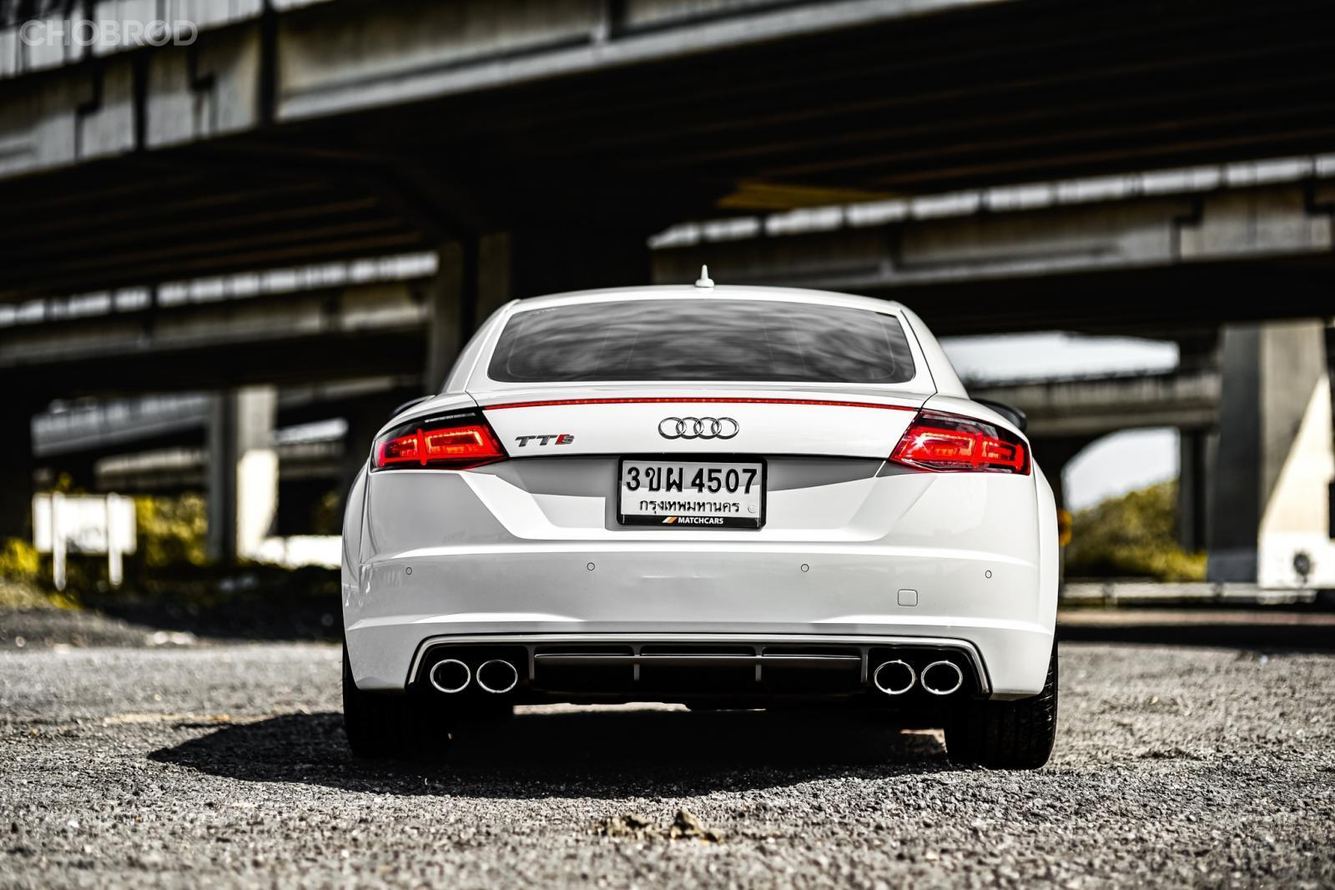license-plate: (615, 453, 767, 530)
